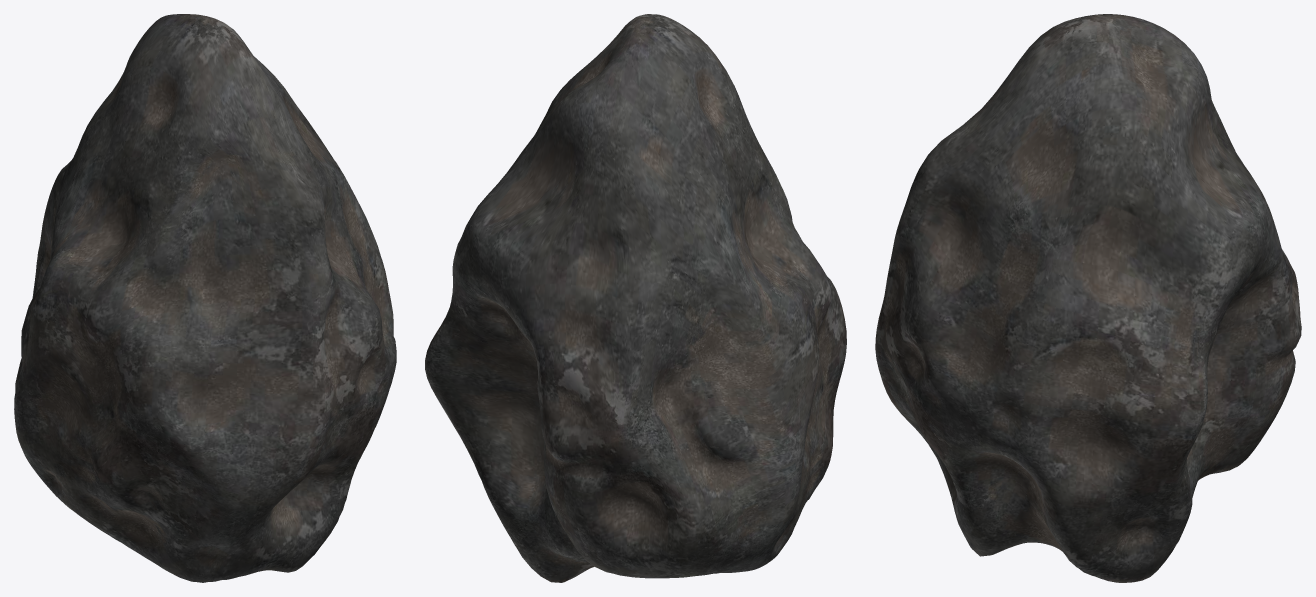
3 renders of one model, left to right at view 1: azimuth 30°, elevation 25°; view 2: azimuth 150°, elevation 25°; view 3: azimuth 270°, elevation 25°, orthographic. The views are drawn at different scales.
Visible parts, largest first — view 1: Object_2; view 2: Object_2; view 3: Object_2.
Boxes of the visible parts, box(x1,y1,x2,y2) form: Object_2: box(14, 14, 396, 582); Object_2: box(425, 14, 846, 582); Object_2: box(875, 14, 1301, 582).
Bounding box in the file's own units: 37.49 × 57.91 × 42.
1 material, 1 textured.
